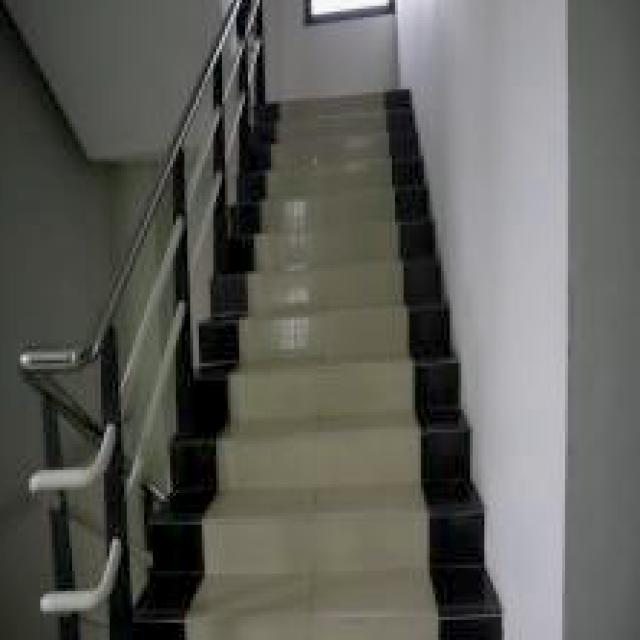upstair: (258, 99, 445, 640)
